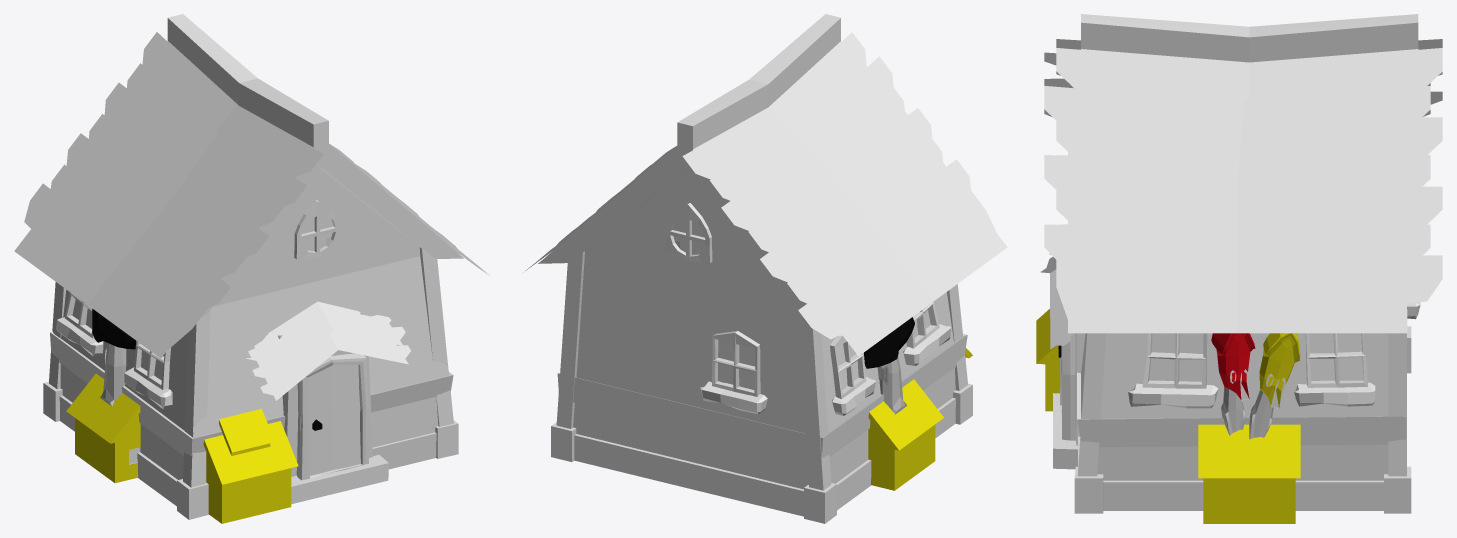
The model's file is RepairHouse.fbx.
3 views of the same model, side by side, from view 1: azimuth 30°, elevation 25°; view 2: azimuth 150°, elevation 25°; view 3: azimuth 270°, elevation 25° (orthographic). The views are drawn at different scales.
Parts seen in each view (by area): view 1: Cube.146, Cube.149, Cube.147, Cube.151, Cube.150, Cube.156; view 2: Cube.146, Cube.147, Cube.156, Cube.150; view 3: Cube.146, Cube.148, Cube.154, Cube.152, Cube.149, Cube.155, Cube.153.
Boxes of the visible parts, x1,y1,x2,y2 form: Cube.146: (14,14,490,519); Cube.149: (203,421,298,523); Cube.147: (66,373,140,483); Cube.151: (219,409,274,455); Cube.150: (99,343,126,406); Cube.156: (92,308,135,349); Cube.146: (523,14,1007,523); Cube.147: (868,379,943,490); Cube.156: (864,317,914,368); Cube.150: (877,355,906,414); Cube.146: (1040,14,1442,513); Cube.148: (1198,424,1300,523); Cube.154: (1259,333,1300,408); Cube.152: (1211,333,1255,400); Cube.149: (1036,309,1060,411); Cube.155: (1249,389,1273,439); Cube.153: (1221,387,1245,435).
Bounding box in the file's own units: 291 × 303 × 266.
